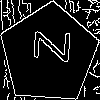Z: (24, 29, 70, 63)
